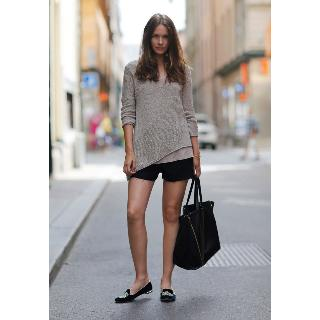loafers: (110, 282, 154, 306), (157, 284, 180, 308)
